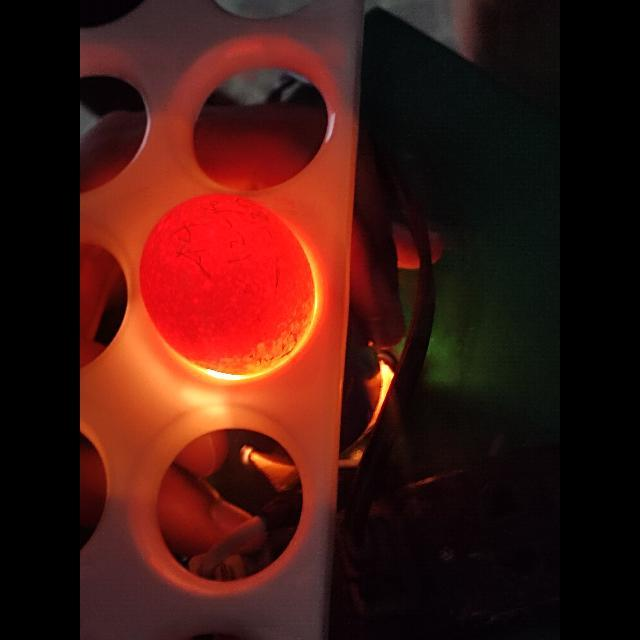Infertile: (142, 190, 326, 372)
